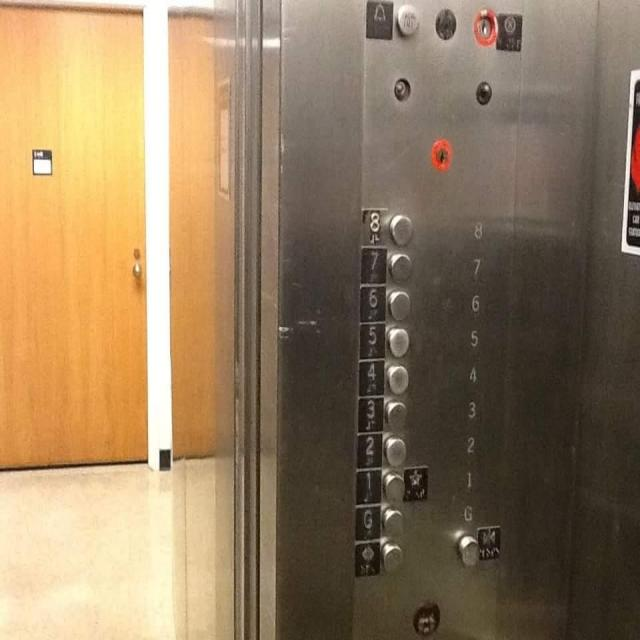1: (355, 467, 382, 505)
2: (356, 432, 383, 467)
3: (355, 393, 384, 432)
4: (358, 361, 384, 394)
5: (358, 322, 385, 359)
6: (358, 284, 385, 321)
7: (359, 247, 387, 284)
8: (360, 207, 390, 246)
G: (354, 506, 379, 541)
alarm: (364, 0, 395, 40)
close: (477, 524, 501, 561)
empty: (456, 532, 480, 568), (383, 434, 407, 468), (381, 505, 404, 540), (388, 253, 412, 286), (387, 289, 410, 323), (386, 362, 408, 397), (389, 213, 412, 246), (386, 326, 409, 358), (381, 542, 404, 574), (385, 400, 407, 431), (383, 470, 403, 502)
keyhole: (432, 4, 458, 44), (472, 6, 498, 46), (429, 136, 453, 173)
open: (353, 539, 381, 577)
s: (403, 463, 429, 502)
stop: (493, 11, 524, 52)
text_blur: (413, 597, 442, 639), (393, 0, 422, 40)
